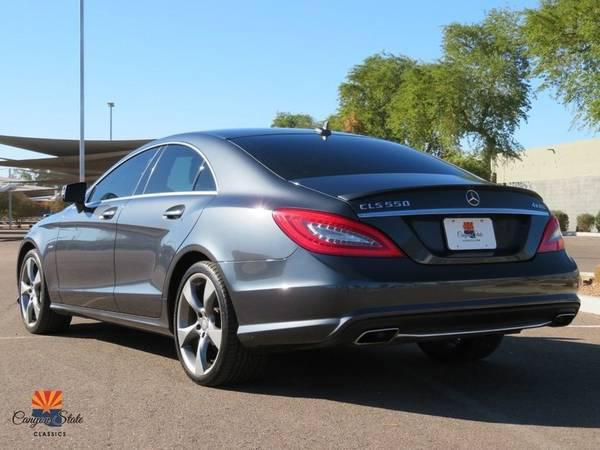Front_Fender: (17, 210, 64, 310)
Front_Left_Door: (57, 200, 126, 327)
Front_Left_Window: (73, 147, 161, 203)
Left_Taillight: (274, 205, 409, 258)
Rear_Bumper: (219, 248, 581, 346)
Rear_Fender: (180, 192, 356, 261)
Rear_Left_Door: (113, 192, 214, 334)
Rear_Left_Window: (132, 144, 220, 193)
Rear_Windshield: (230, 135, 484, 184)
Right_Taillight: (536, 217, 567, 256)
Roof: (68, 126, 356, 207)
Tailgate: (289, 172, 550, 265)
Wheel: (169, 259, 232, 381), (15, 249, 68, 331)
